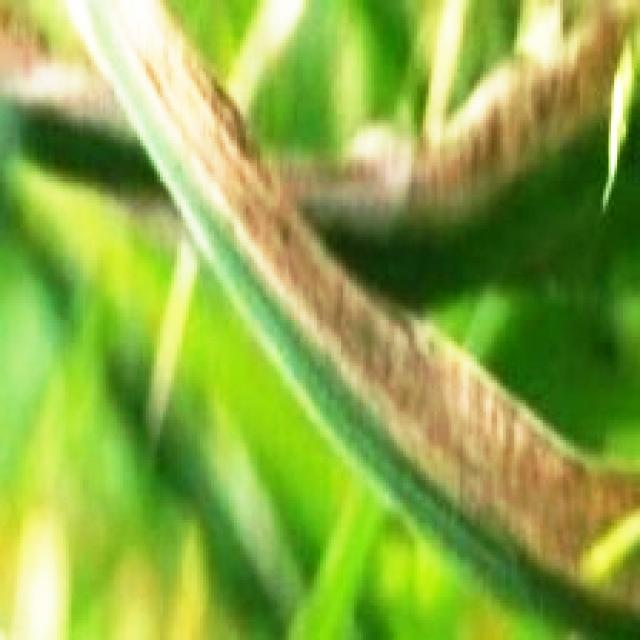unhealth: (65, 0, 640, 640)
